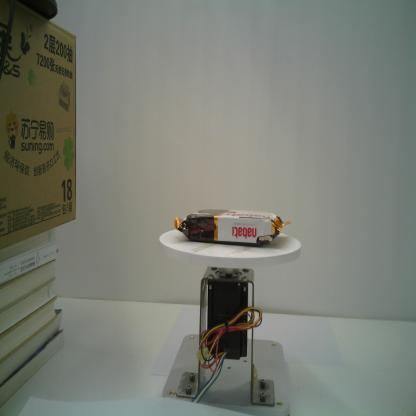Dessert: (172, 206, 292, 247)
